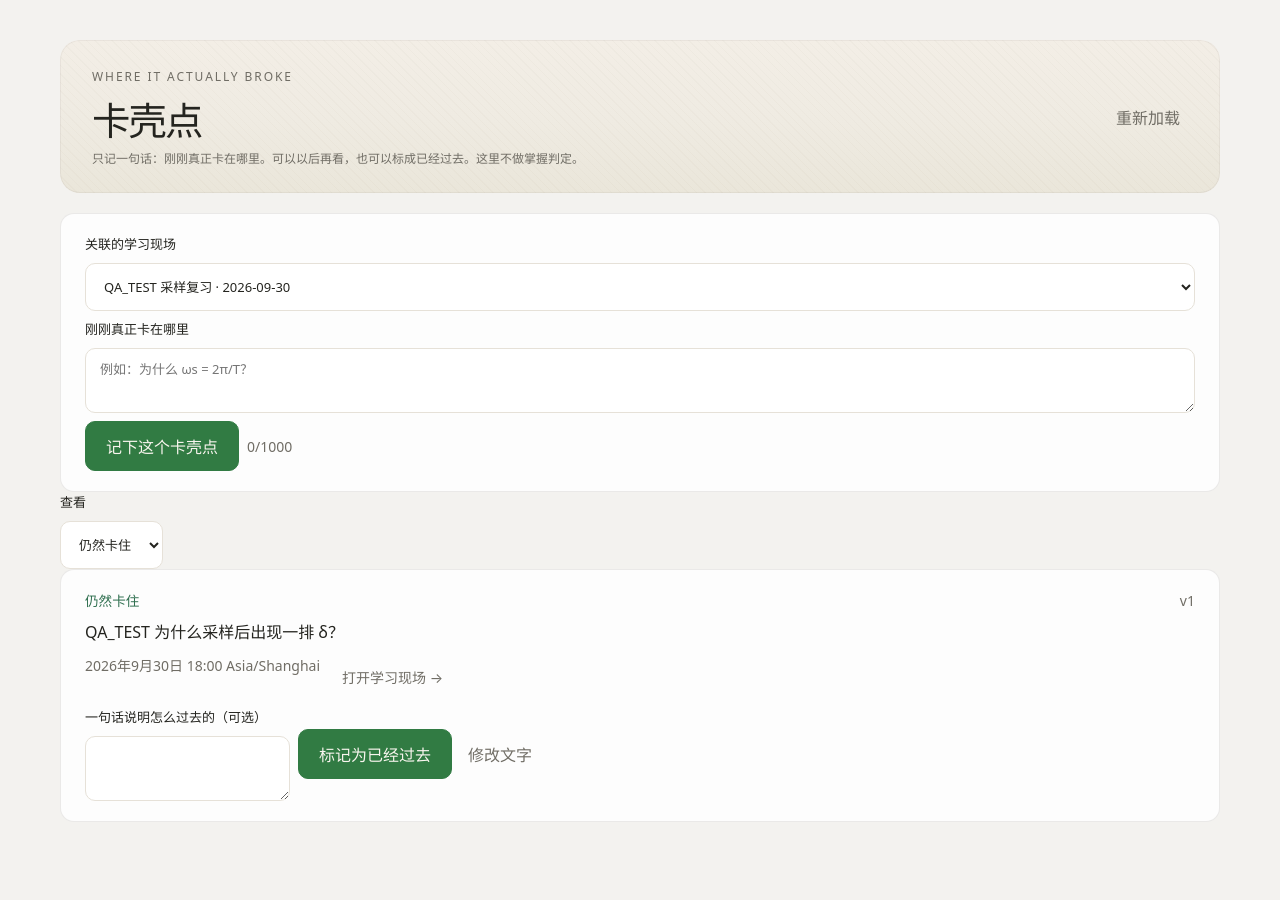
it: stuck points › lists open stuck points by default and can switch to the resolved view
Expected: the text "仍然卡住" is shown, left=85, top=590, right=139, bottom=610
Select "已经过去" in the dropdown labelled "查看" at (112, 545), box left=60, top=521, right=163, bottom=569
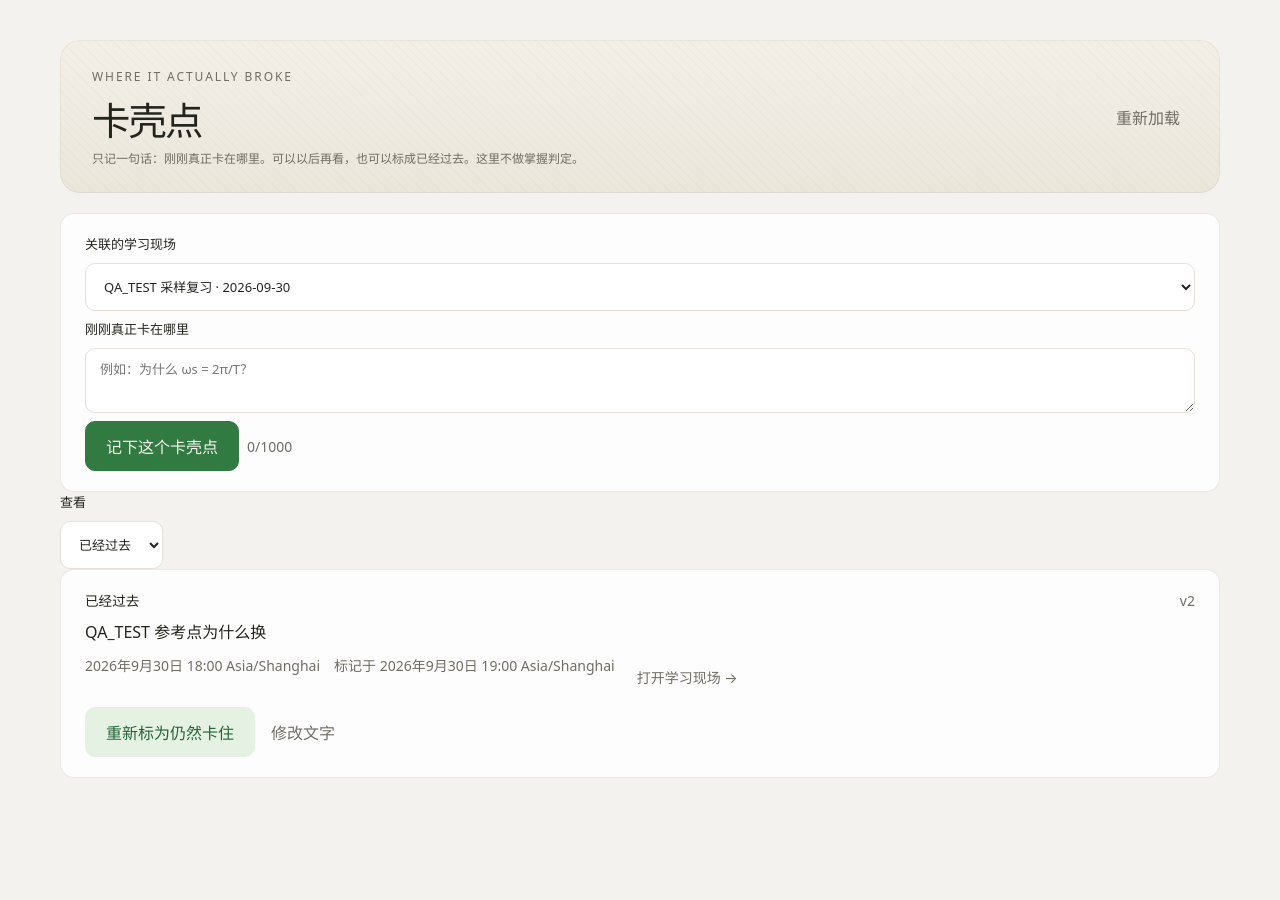
Now the text "已经过去" is shown, box left=85, top=590, right=139, bottom=610
